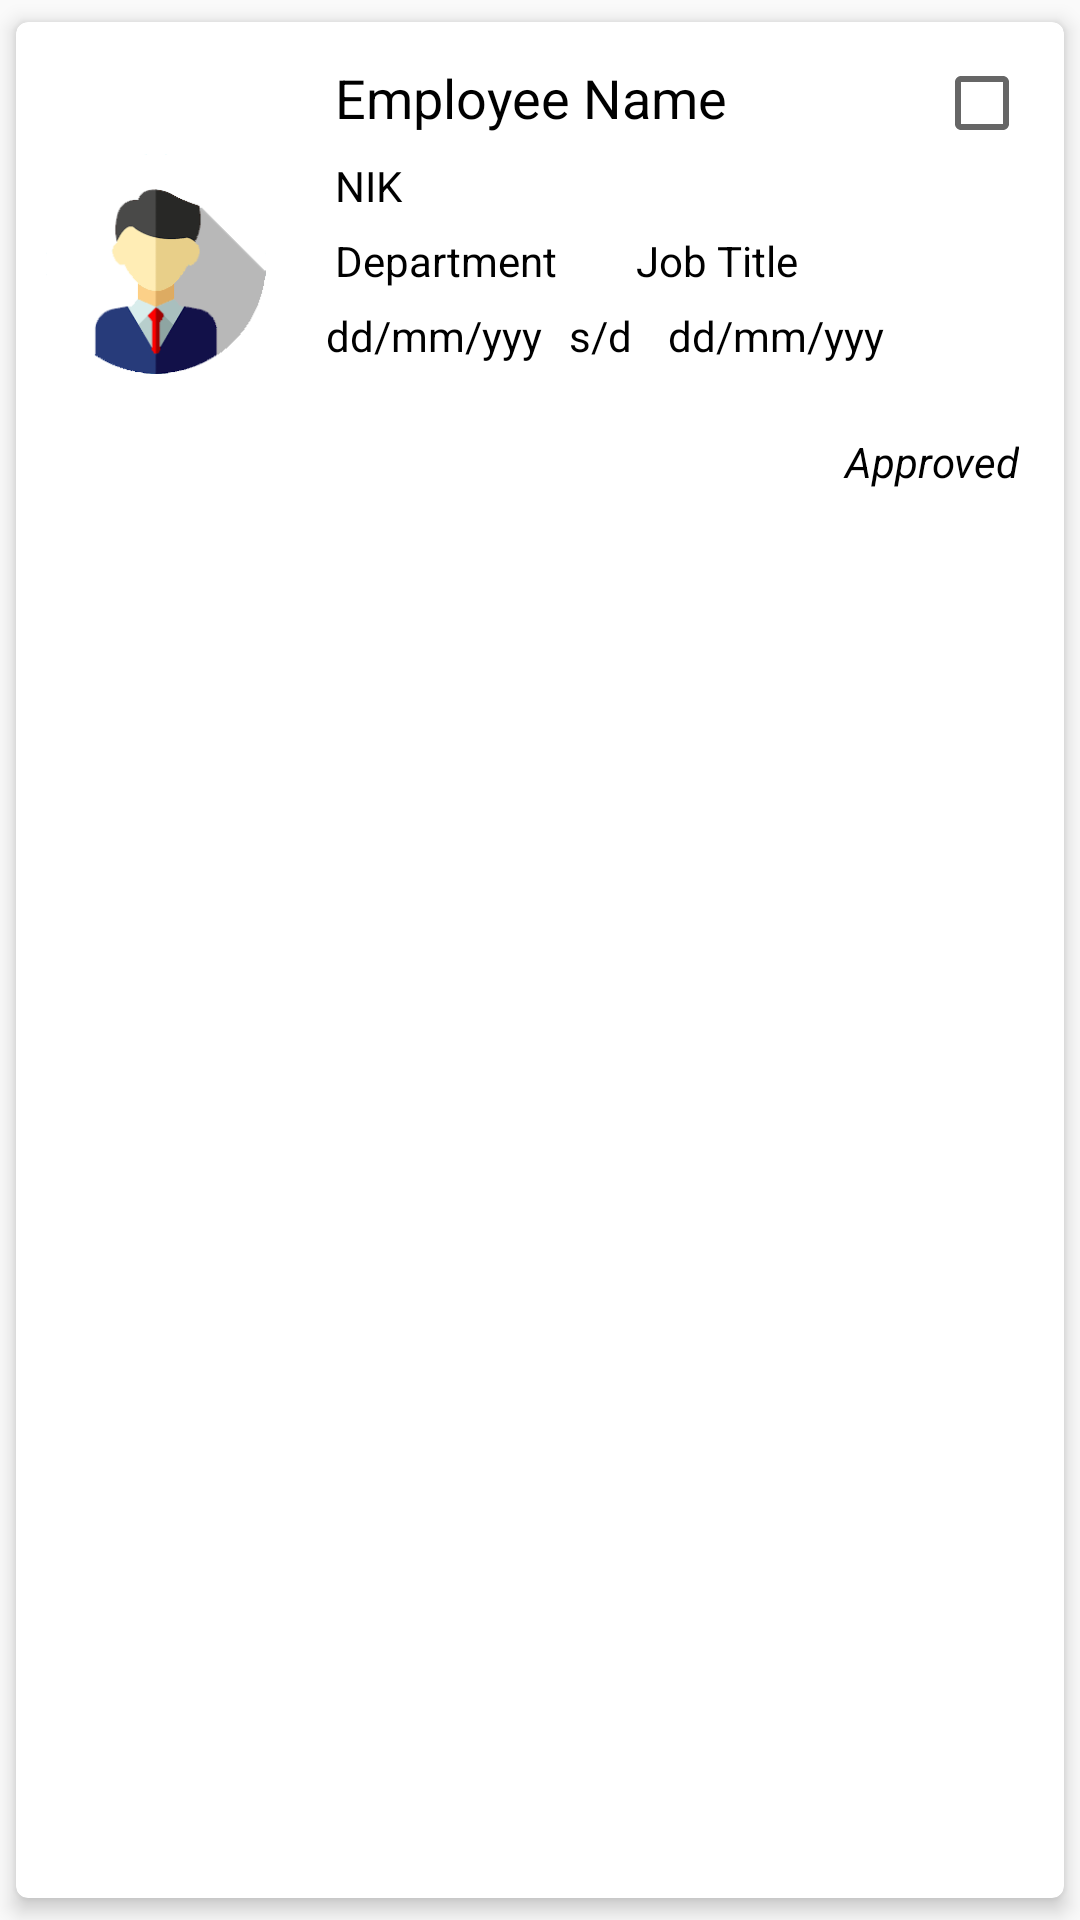

Named icons in this screenshot (1080*1920) and their centers, (x,y):
user: (180,281)
